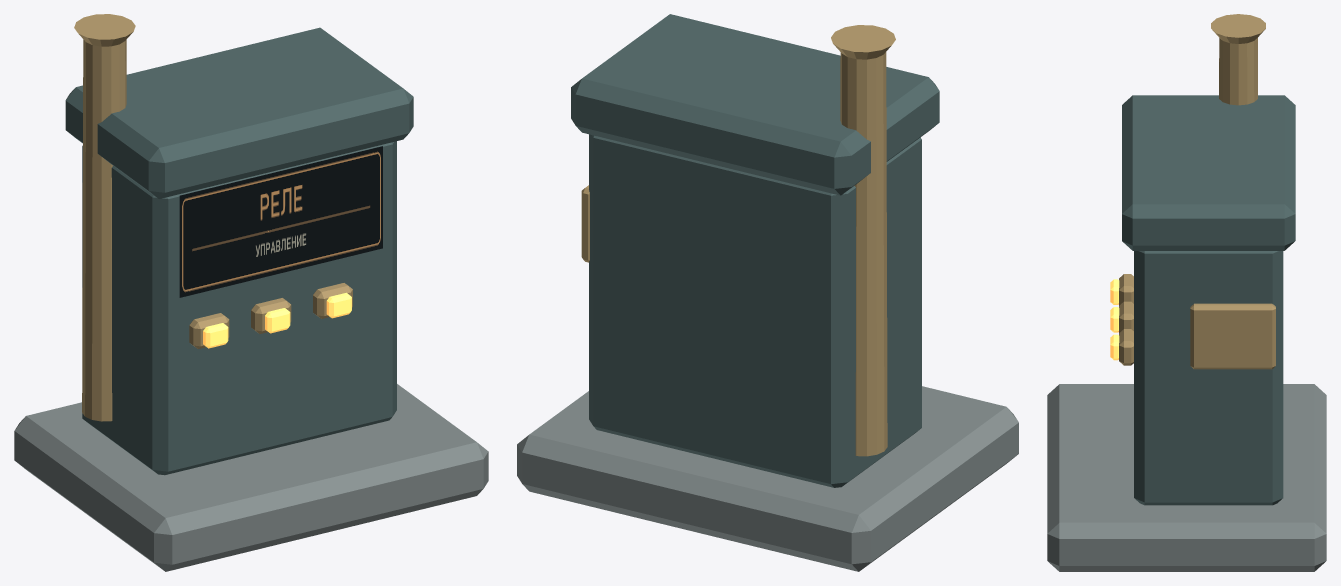
File: east-relay.glb
3 views of the same model, side by side, from view 1: azimuth 30°, elevation 25°; view 2: azimuth 150°, elevation 25°; view 3: azimuth 270°, elevation 25° (orthographic). The views are drawn at different scales.
Parts seen in each view (by area): view 1: east-relay; view 2: east-relay; view 3: east-relay.
Boxes of the visible parts, x1=… form: east-relay: x1=14, y1=14, x2=488, y2=571; east-relay: x1=517, y1=14, x2=1018, y2=571; east-relay: x1=1047, y1=14, x2=1326, y2=571.
Size of the model in its own units: 1.3 by 1.72 by 1.03.
Materials: 5 (1 with a texture image).
